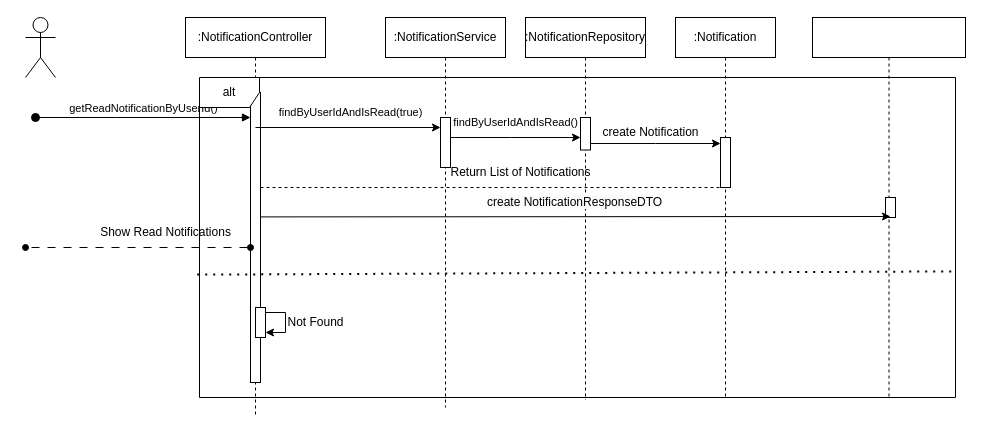
Some shapes in this 983 by 435 pixel diagram are drawn without their labels. Here are the shapes that lost their labels. From the top down, the box of each, then its label:
(24, 16, 56, 78): User
(812, 16, 966, 398): :NotificationResponseDTO
